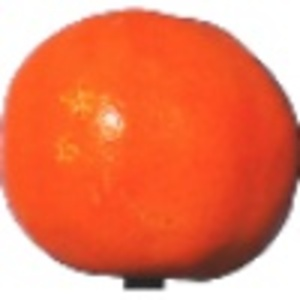tangerina: (2, 6, 300, 288)
